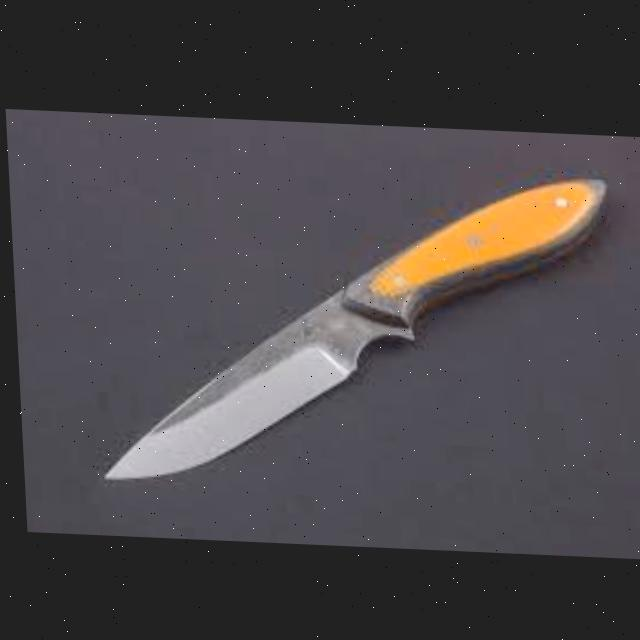Knife: (84, 151, 617, 498)
